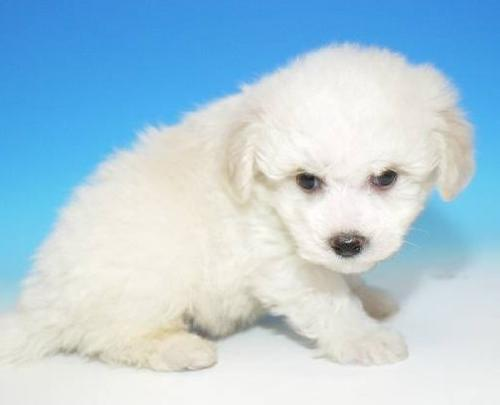dog: (226, 67, 478, 295)
